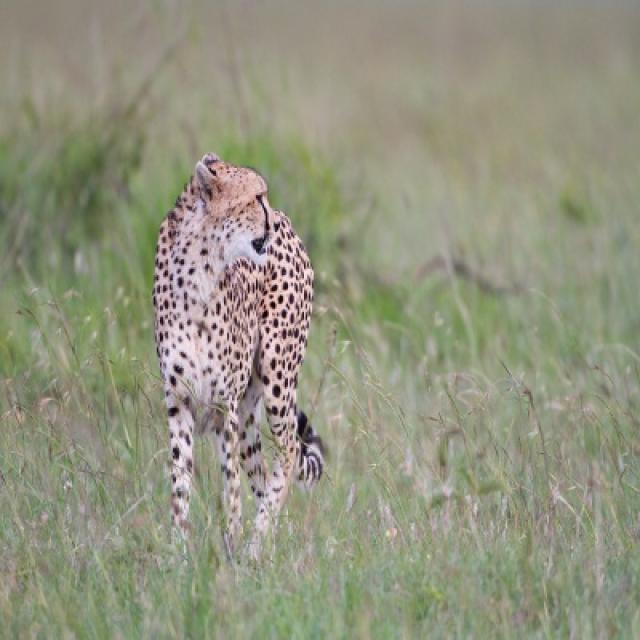Cheetah: (155, 149, 325, 556)
